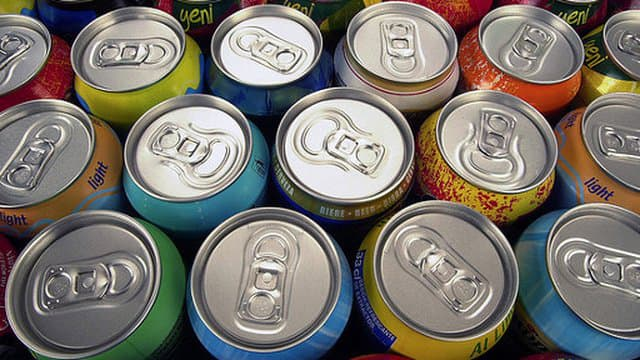can: (346, 201, 526, 360), (191, 201, 359, 360), (1, 212, 175, 359), (415, 83, 565, 212), (528, 196, 640, 360), (115, 93, 268, 207), (276, 85, 415, 207), (1, 97, 110, 213), (334, 3, 460, 97), (66, 7, 194, 94), (204, 3, 328, 91), (473, 1, 587, 88), (576, 88, 636, 203), (1, 12, 73, 104), (576, 7, 640, 99)
